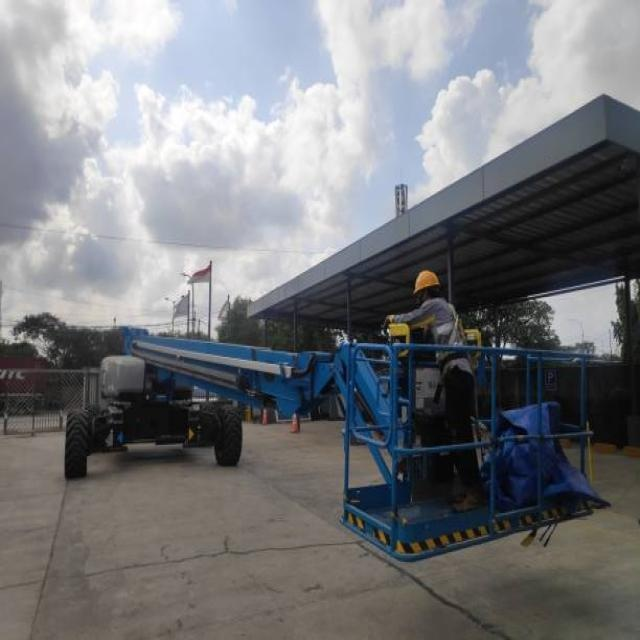Arnes_seguridad: (429, 299, 476, 396)
